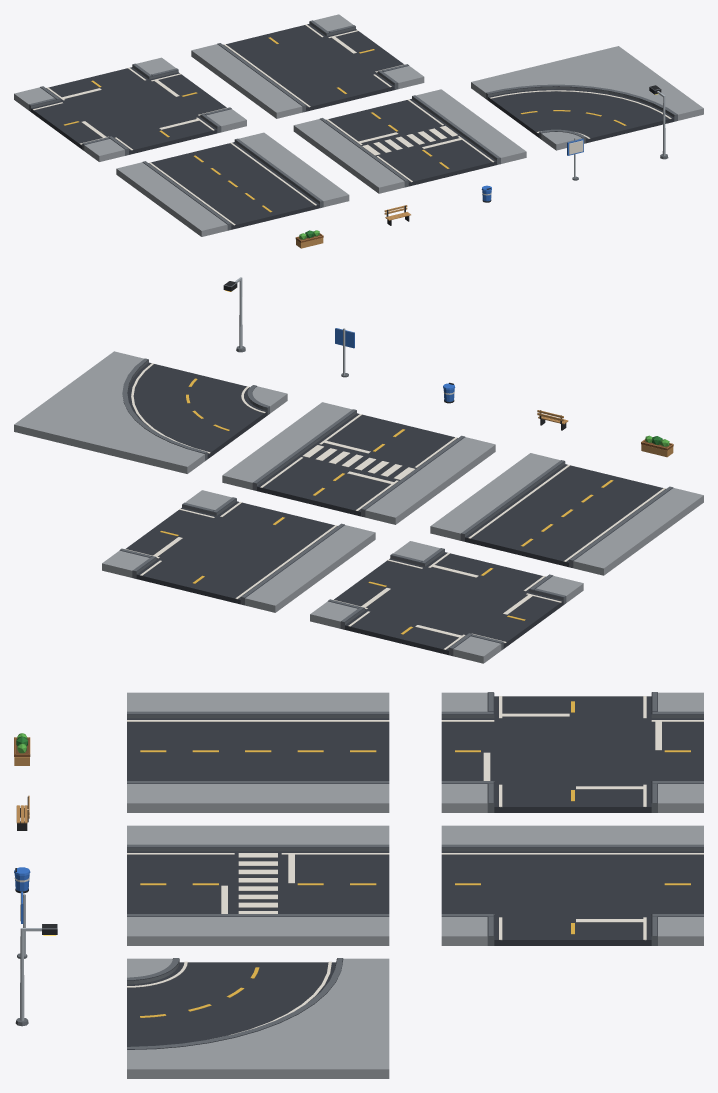
The model's file is town-road-kit.glb.
3 views of the same model, one above another, from view 1: azimuth 30°, elevation 25°; view 2: azimuth 150°, elevation 25°; view 3: azimuth 270°, elevation 25° (orthographic). The views are drawn at different scales.
Parts seen in each view (by area): view 1: Road_Straight, Road_Crosswalk, Road_Curve, Road_Intersection, Road_TJunction, Planter; view 2: Road_Straight, Road_Curve, Road_Crosswalk, Road_TJunction, Road_Intersection; view 3: Road_Crosswalk, Road_Straight, Road_TJunction, Road_Curve, Road_Intersection, StreetLamp.
Boxes of the visible parts, left/top/right/bottom form: Road_Straight: left=116, top=132, right=349, bottom=236; Road_Crosswalk: left=293, top=89, right=526, bottom=193; Road_Curve: left=471, top=46, right=703, bottom=150; Road_Intersection: left=14, top=57, right=246, bottom=161; Road_TJunction: left=191, top=14, right=424, bottom=118; Planter: left=295, top=230, right=323, bottom=248; Road_Straight: left=430, top=453, right=703, bottom=575; Road_Curve: left=14, top=351, right=287, bottom=473; Road_Crosswalk: left=222, top=402, right=495, bottom=524; Road_TJunction: left=102, top=490, right=375, bottom=612; Road_Intersection: left=310, top=541, right=583, bottom=663; Road_Crosswalk: left=127, top=825, right=389, bottom=945; Road_Straight: left=127, top=692, right=389, bottom=812; Road_TJunction: left=441, top=825, right=703, bottom=945; Road_Curve: left=127, top=958, right=389, bottom=1078; Road_Intersection: left=441, top=692, right=703, bottom=812; StreetLamp: left=15, top=924, right=57, bottom=1026.
Size of the model in its own units: 136 by 16.4 by 105.
